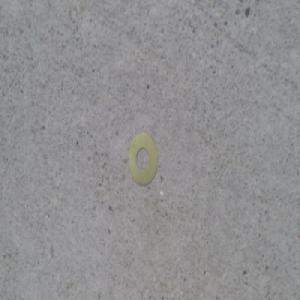Washer: (127, 133, 158, 189)
